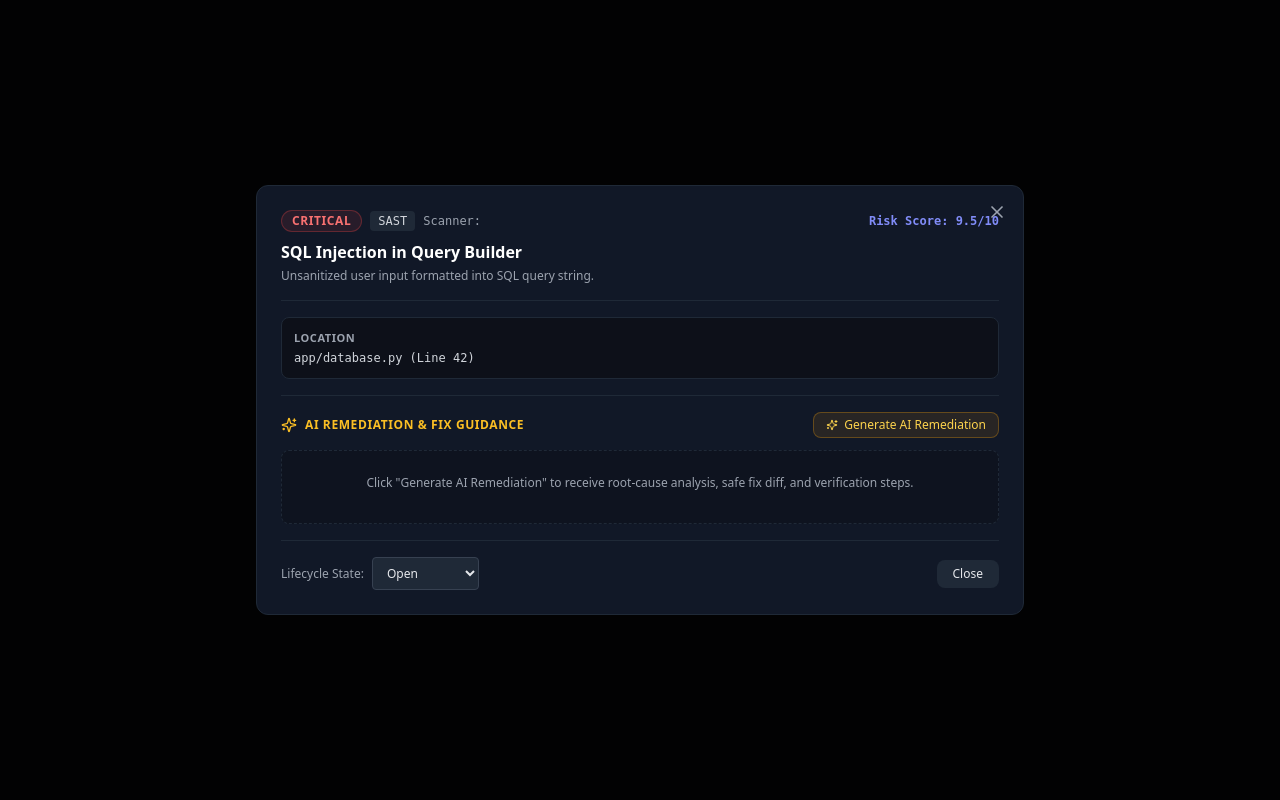
Test case: State Synchronization & AI Remediation › 2. Changes Lifecycle State and immediately updates the UI without page reload
Select "Fixed" in the dropdown: (425, 574) top-left (372, 557), bottom-right (479, 590)
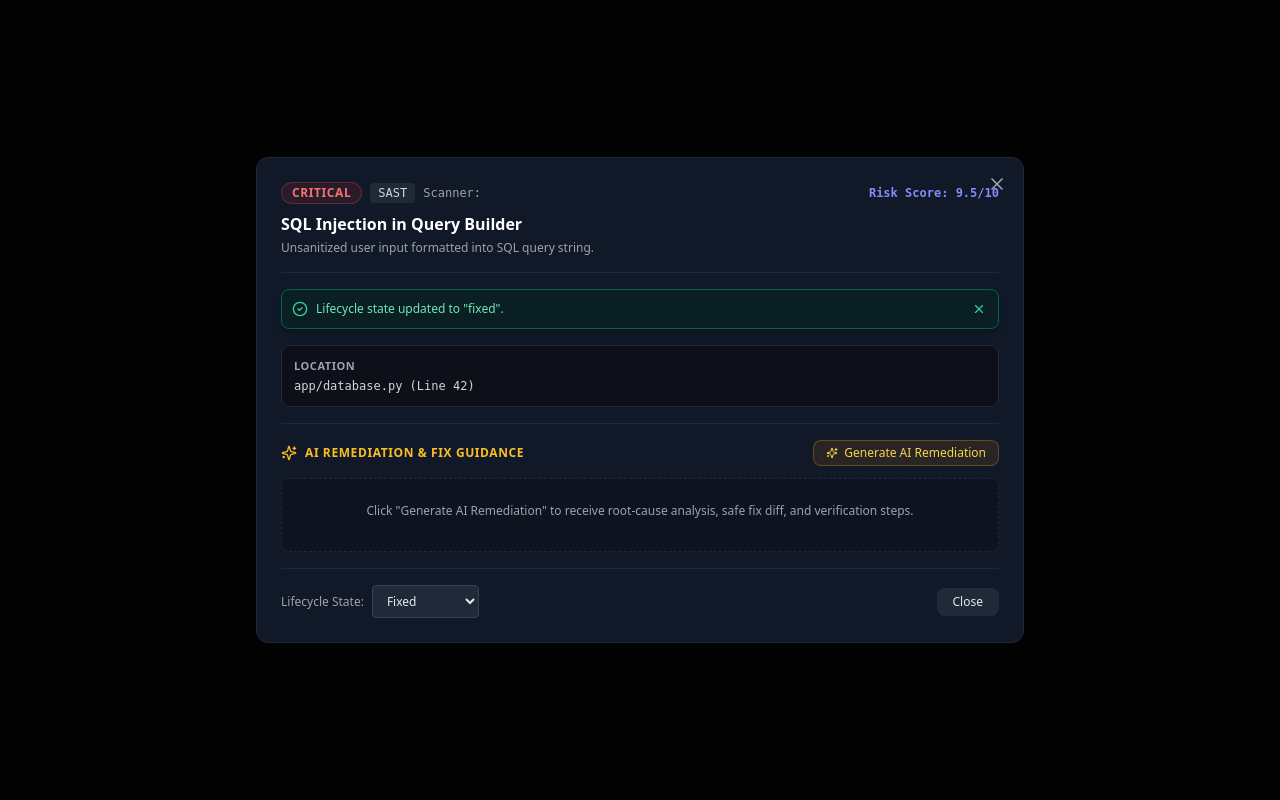
Expected: the message shows "Lifecycle state updated to \"fixed\"", top-left (316, 300), bottom-right (504, 317)
